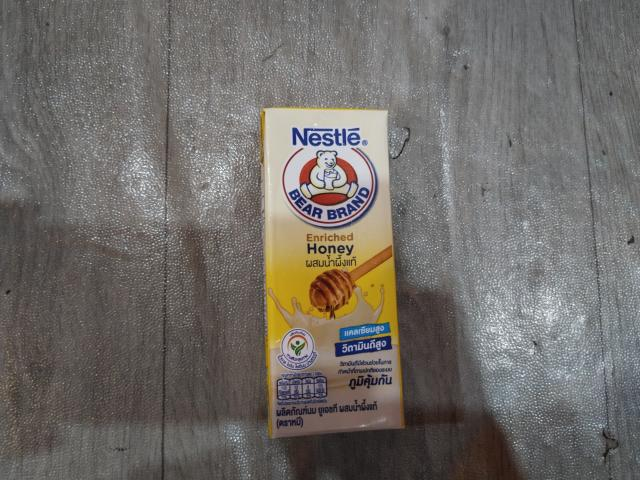drink_box: (259, 104, 409, 434)
